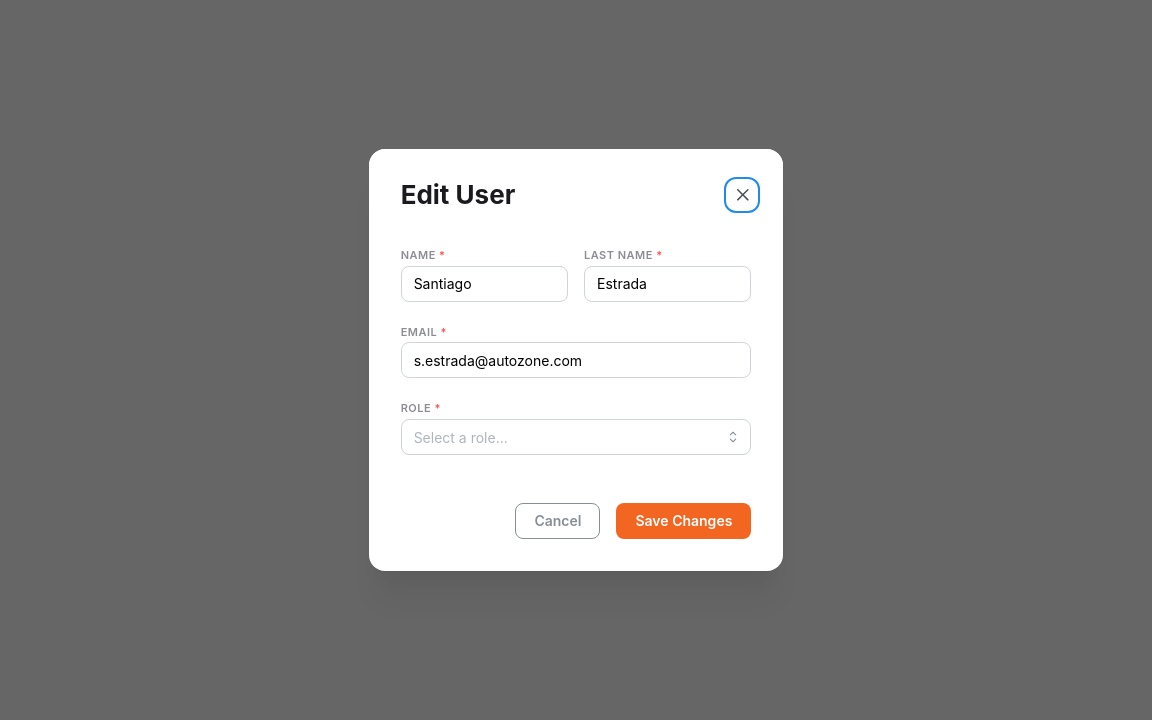
UserCreateModal — edit mode › invalid email blocks submit and shows email validation error
The width and height of the screenshot is (1152, 720).
Expected: the form with test id "user-create-form" is shown, x1=401 y1=241 x2=751 y2=539
Step 1. Replace the text in the field with test id "user-email-input" with "notanemail" → [576, 360], box x1=401 y1=342 x2=751 y2=378
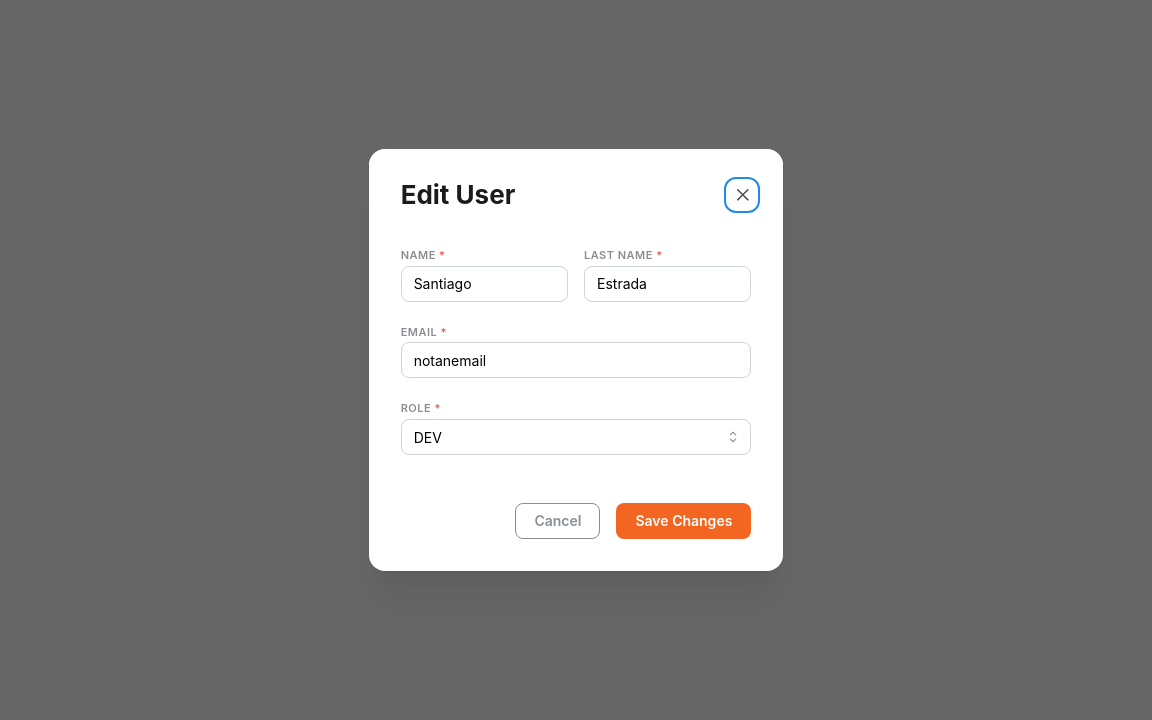
Step 2. Click the button with test id "user-submit-btn" → [684, 521], box x1=616 y1=503 x2=751 y2=539
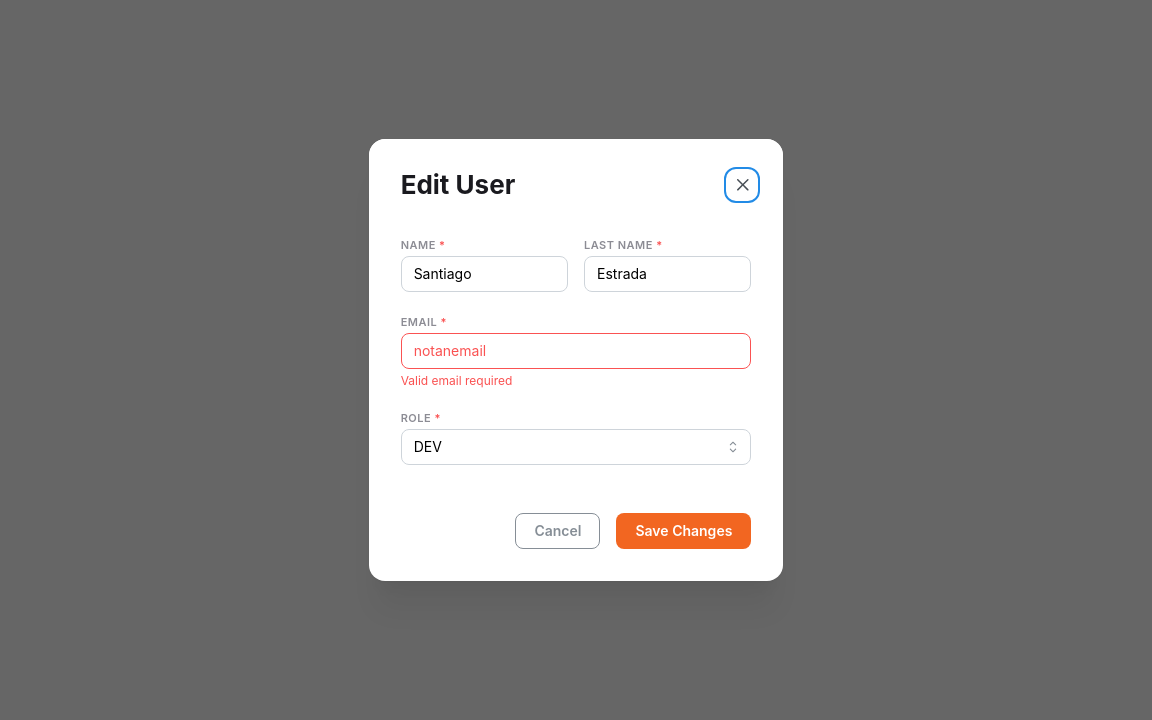
Result: the text "Valid email required" is shown at x1=401 y1=373 x2=512 y2=388
